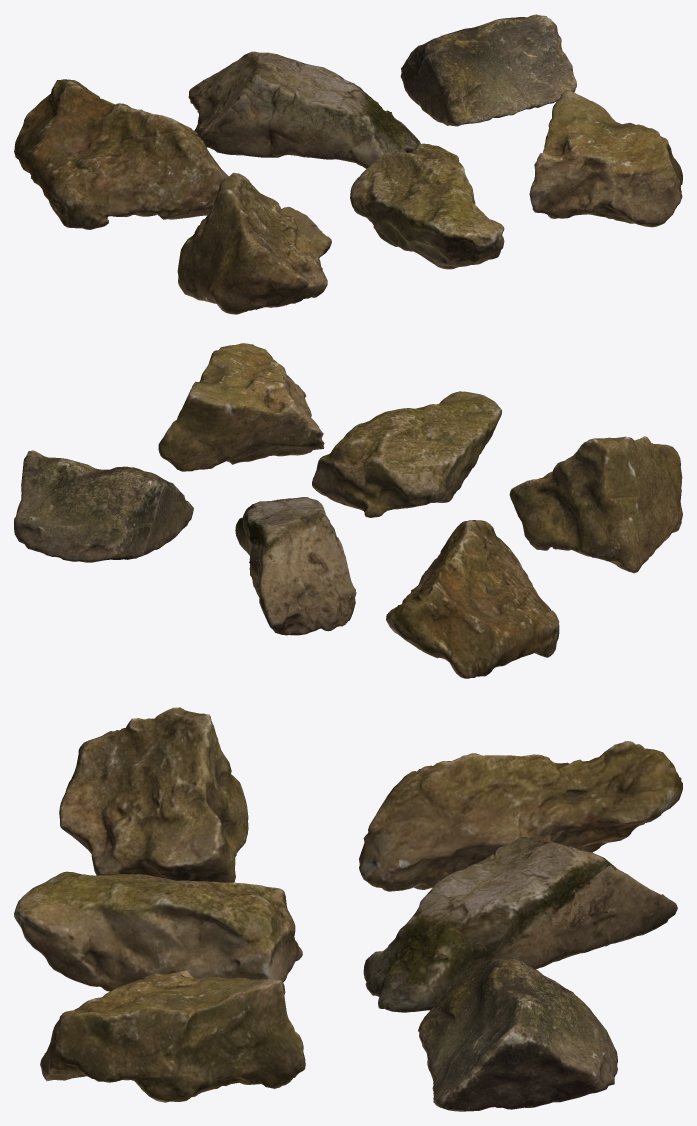
Rendered from rock_moss_set_01.glb.
3 renders of one model, top to bottom at view 1: azimuth 30°, elevation 25°; view 2: azimuth 150°, elevation 25°; view 3: azimuth 270°, elevation 25°, orthographic. The views are drawn at different scales.
Visible parts, largest first — view 1: rock_moss_set_01_rock01_mesh, rock_moss_set_01_rock02_mesh, rock_moss_set_01_rock06_mesh, rock_moss_set_01_rock04_mesh, rock_moss_set_01_rock03_mesh, rock_moss_set_01_rock05_mesh; view 2: rock_moss_set_01_rock04_mesh, rock_moss_set_01_rock01_mesh, rock_moss_set_01_rock05_mesh, rock_moss_set_01_rock03_mesh, rock_moss_set_01_rock06_mesh, rock_moss_set_01_rock02_mesh; view 3: rock_moss_set_01_rock01_mesh, rock_moss_set_01_rock02_mesh, rock_moss_set_01_rock05_mesh, rock_moss_set_01_rock04_mesh, rock_moss_set_01_rock06_mesh, rock_moss_set_01_rock03_mesh.
Boxes of the visible parts, <box> form: rock_moss_set_01_rock01_mesh: <box>14,79,228,229</box>; rock_moss_set_01_rock02_mesh: <box>188,51,420,168</box>; rock_moss_set_01_rock06_mesh: <box>529,89,682,227</box>; rock_moss_set_01_rock04_mesh: <box>177,172,331,314</box>; rock_moss_set_01_rock03_mesh: <box>400,14,576,126</box>; rock_moss_set_01_rock05_mesh: <box>350,143,504,269</box>; rock_moss_set_01_rock04_mesh: <box>509,436,682,573</box>; rock_moss_set_01_rock01_mesh: <box>386,520,559,678</box>; rock_moss_set_01_rock05_mesh: <box>312,391,501,517</box>; rock_moss_set_01_rock03_mesh: <box>14,450,193,562</box>; rock_moss_set_01_rock06_mesh: <box>158,343,324,471</box>; rock_moss_set_01_rock02_mesh: <box>235,497,356,635</box>; rock_moss_set_01_rock01_mesh: <box>359,741,682,891</box>; rock_moss_set_01_rock02_mesh: <box>363,836,677,1012</box>; rock_moss_set_01_rock05_mesh: <box>14,871,302,991</box>; rock_moss_set_01_rock04_mesh: <box>59,707,248,882</box>; rock_moss_set_01_rock06_mesh: <box>40,970,305,1102</box>; rock_moss_set_01_rock03_mesh: <box>418,956,617,1111</box>.
Bounding box in the file's own units: 8 × 1.77 × 6.94.
1 material, 1 textured.
